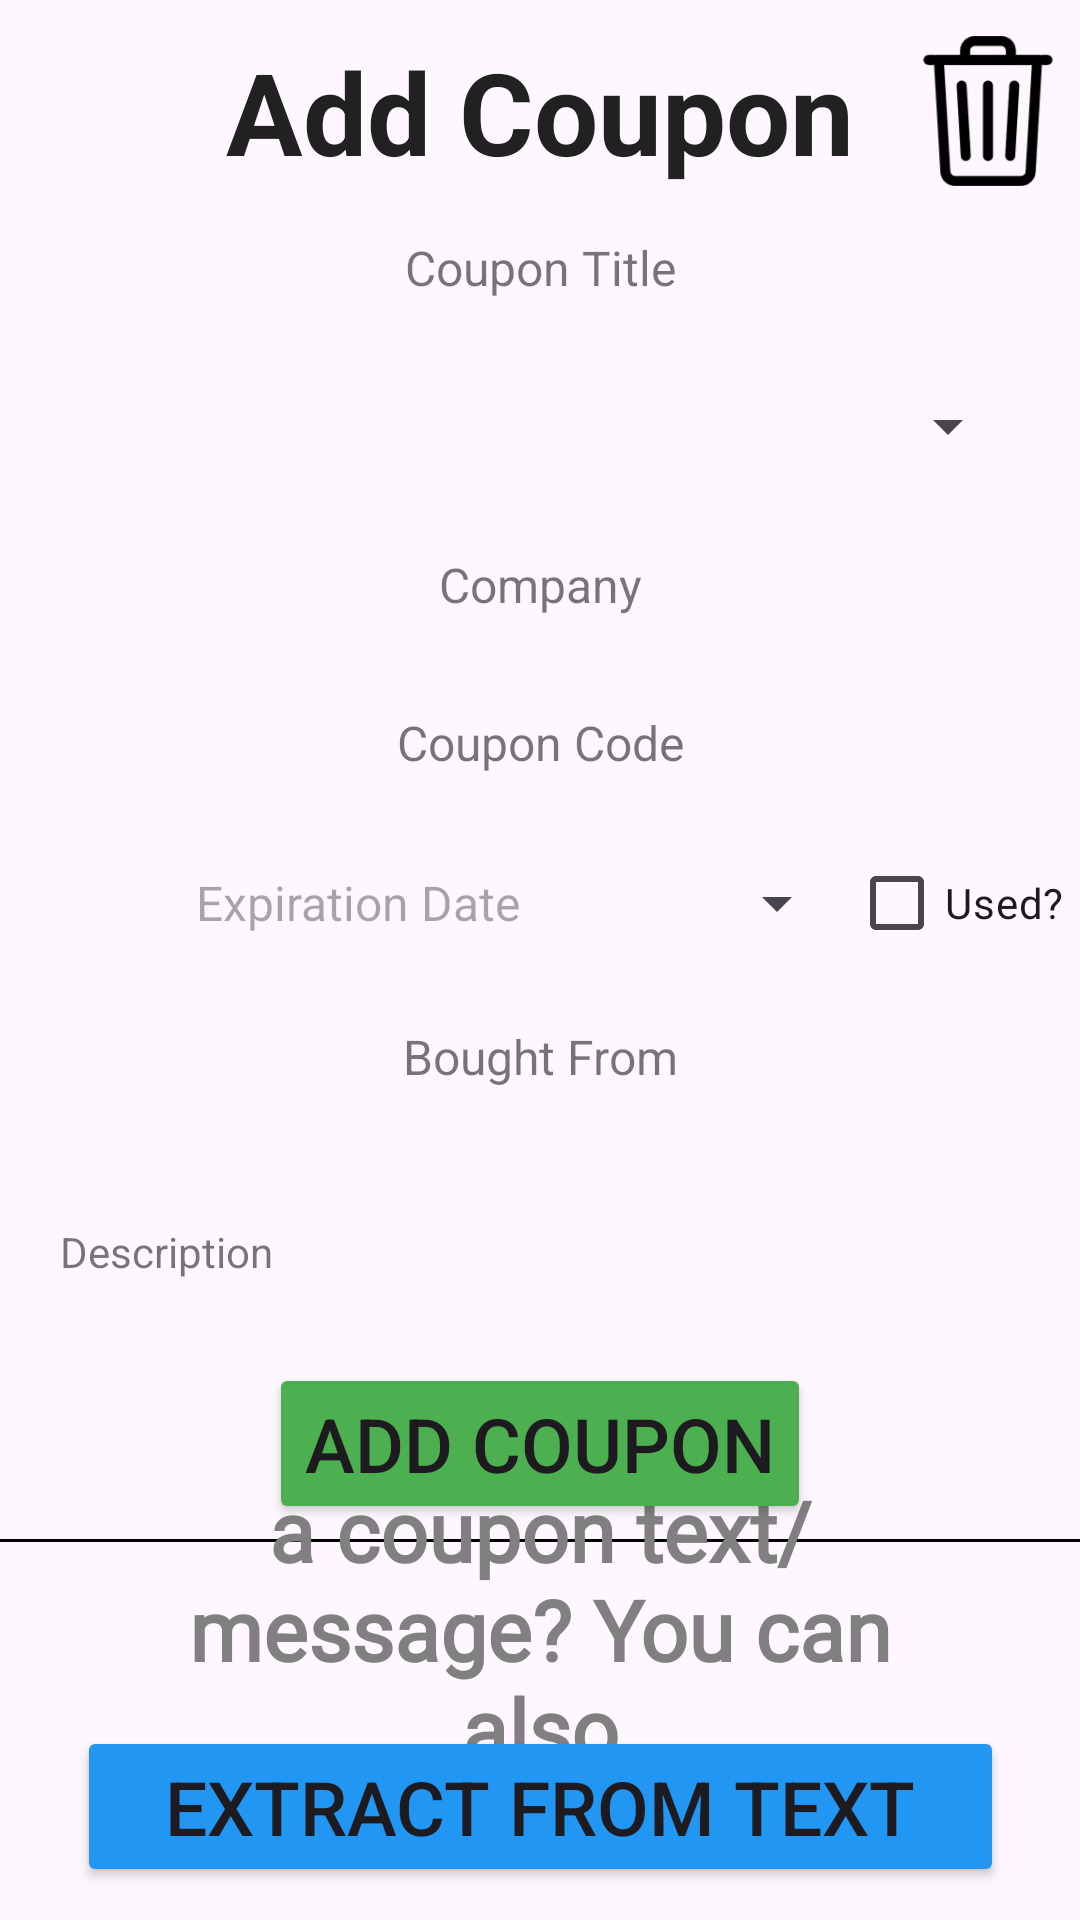

Icon click points for this 1080x1920 phone screenshot, format point (x, y):
trashcan: point (988, 111)
